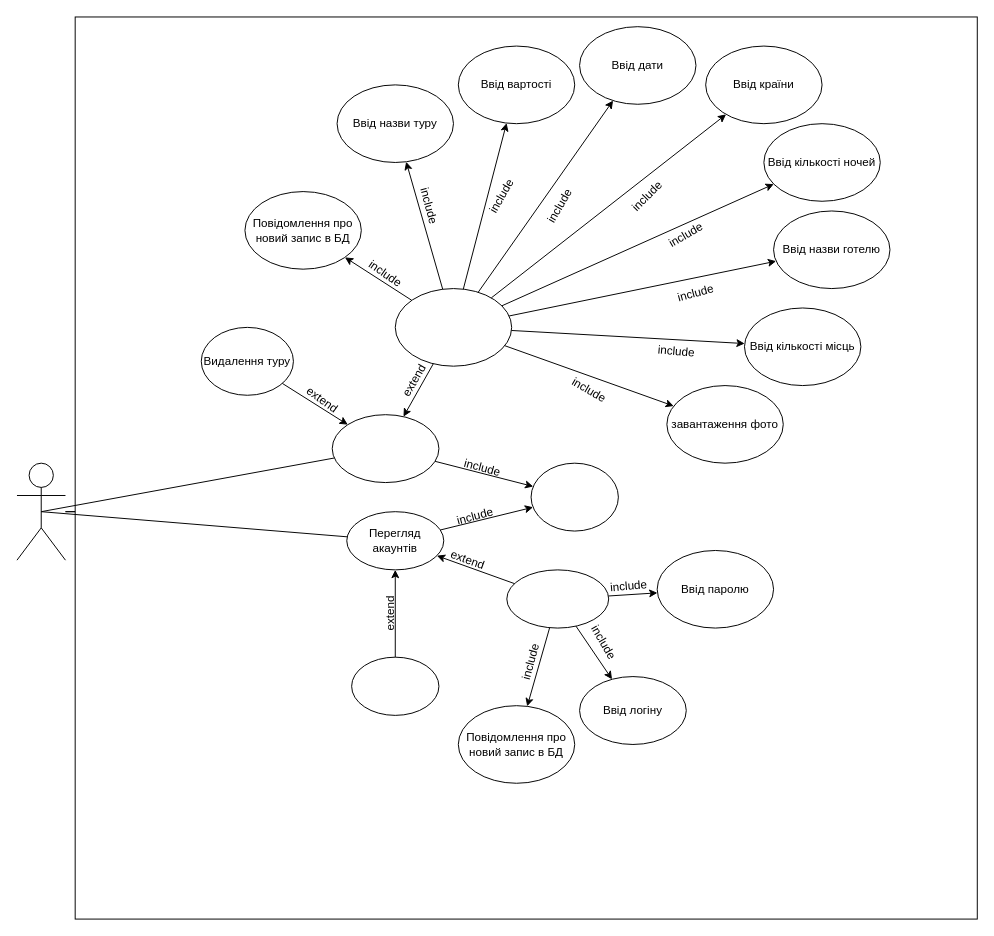
This 994x936 diagram has some shape labels left out. Each missing label, with the centre of its shape:
admin: [40,511]
Видалення акаунту: [395,685]
Вхід в акаунт адміна: [574,496]
Перегляд турів: [385,448]
Створення акаунту: [557,598]
Створення туру: [453,327]
